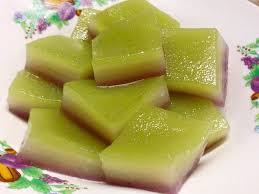kanomchan: (98, 100, 210, 194), (16, 103, 126, 185), (88, 19, 168, 88), (20, 29, 100, 94)
